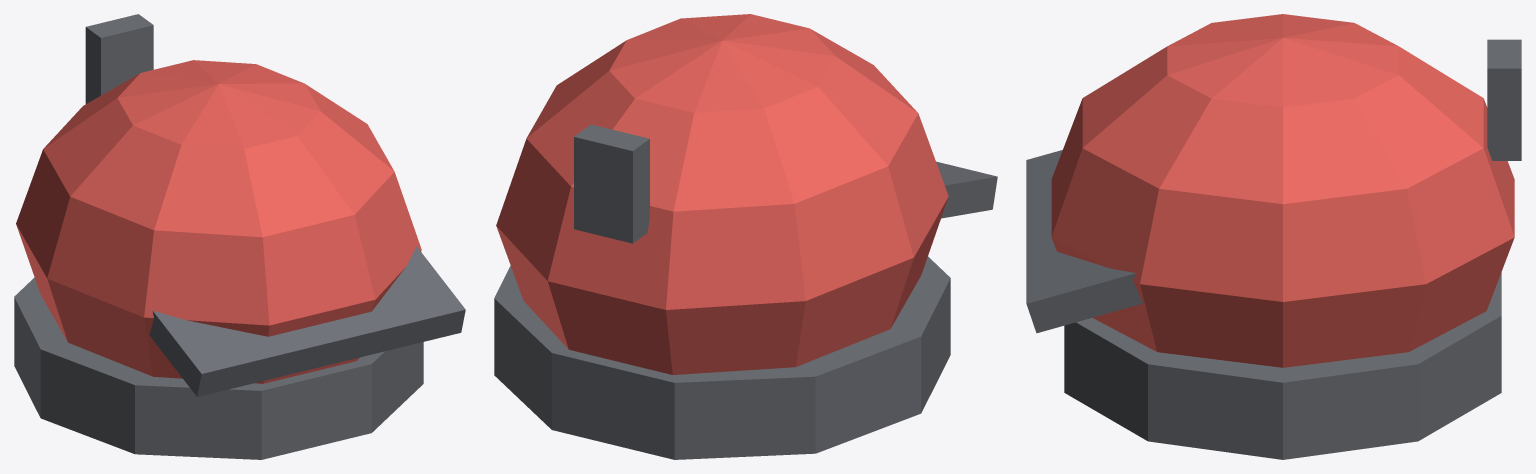
Rendered from ski-resort-and-snow-park-ski-helmet-fafa0e75__26016.glb.
3 views of the same model, side by side, from view 1: azimuth 30°, elevation 25°; view 2: azimuth 150°, elevation 25°; view 3: azimuth 270°, elevation 25° (orthographic). The views are drawn at different scales.
Parts seen in each view (by area): view 1: ski-helmet; view 2: ski-helmet; view 3: ski-helmet.
Boxes of the visible parts, box(x1,y1,x2,y2) form: ski-helmet: box(14, 14, 465, 459); ski-helmet: box(494, 14, 997, 459); ski-helmet: box(1026, 14, 1521, 459).
Size of the model in its own units: 0.27 by 0.221 by 0.2907.
